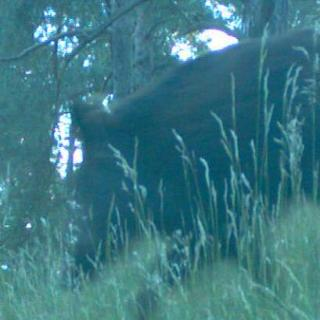Pig: (41, 38, 320, 319)
